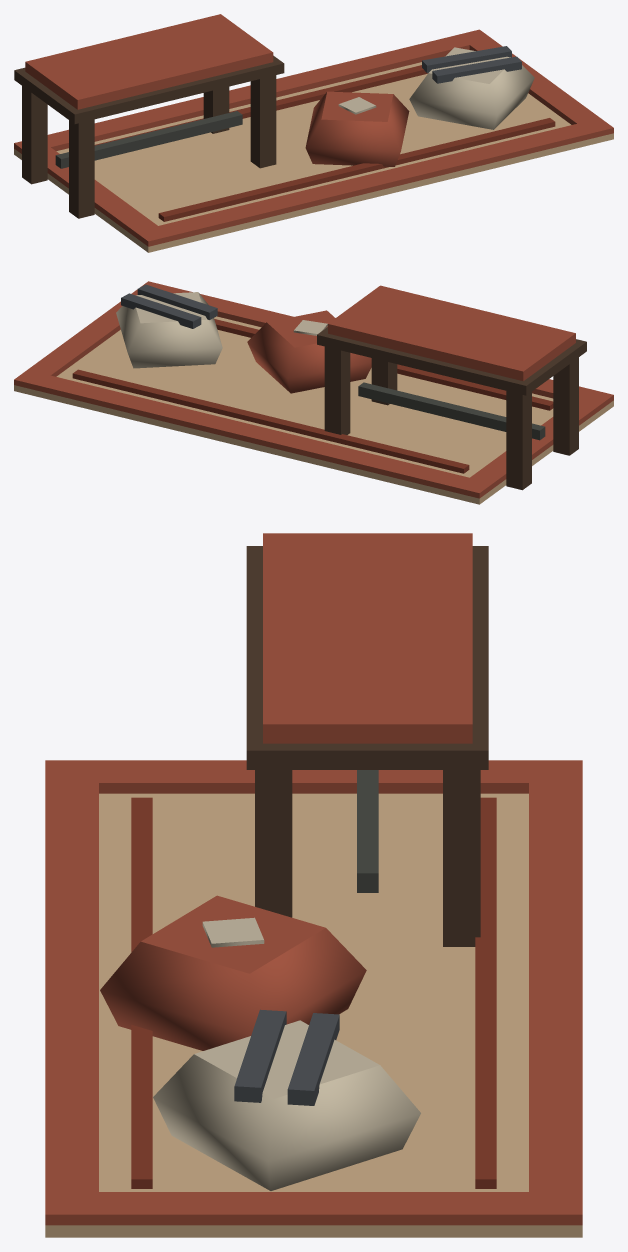
The model's file is seat_small.glb.
3 views of the same model, one above another, from view 1: azimuth 30°, elevation 25°; view 2: azimuth 150°, elevation 25°; view 3: azimuth 270°, elevation 25° (orthographic). The views are drawn at different scales.
Visible parts, largest first — view 1: seat_small; view 2: seat_small; view 3: seat_small.
Part boxes in pixels (x1=…): seat_small: x1=14, y1=14, x2=613, y2=252; seat_small: x1=14, y1=281, x2=613, y2=504; seat_small: x1=45, y1=533, x2=582, y2=1237.
Bounding box in the file's own units: 2.1 × 0.48 × 1.
